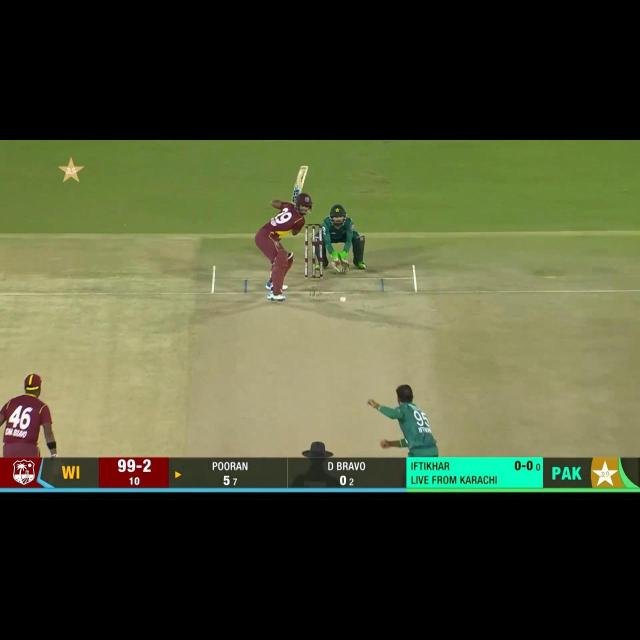bat: (290, 166, 307, 203)
toe: (298, 166, 309, 173)
